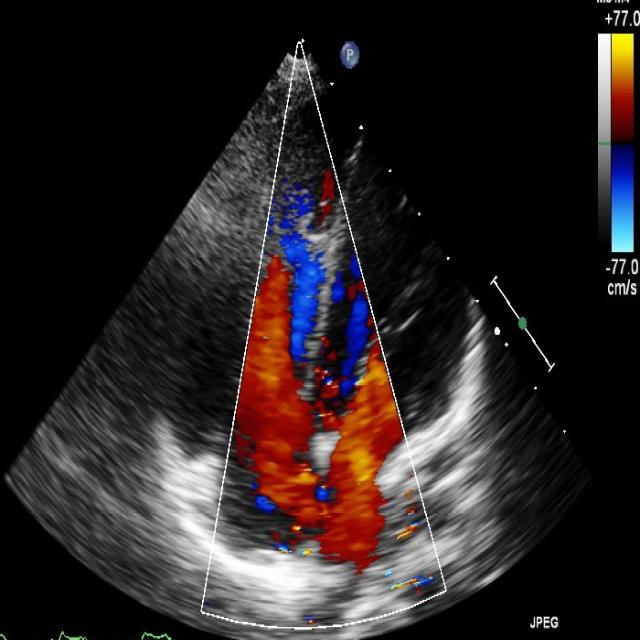ASDType2: (233, 372, 408, 573)
